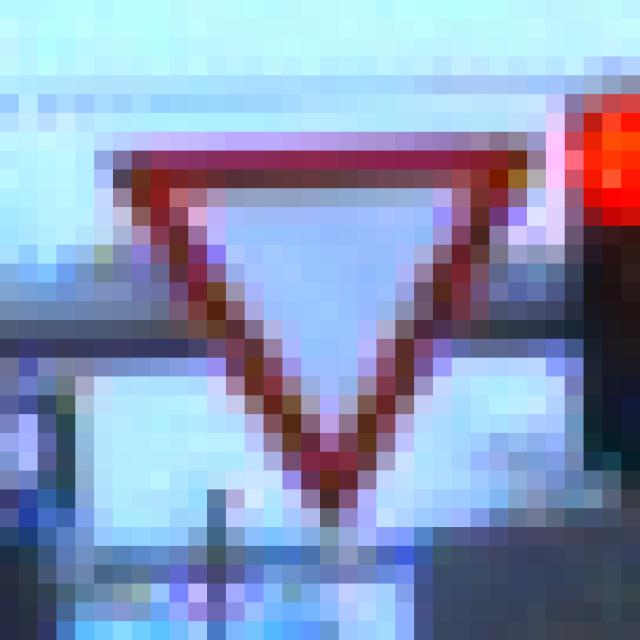Give Way: (95, 114, 547, 547)
